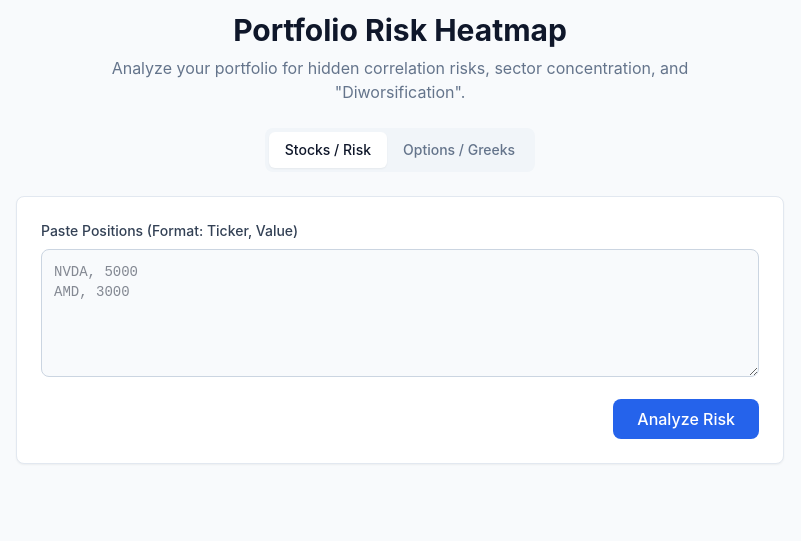
Test: PortfolioRisk Component › handles API error
Step 1. Type "NVDA, 10000" into the text box with placeholder "NVDA, 5000 AMD, 3000" → (400, 313), box [41,249,759,377]
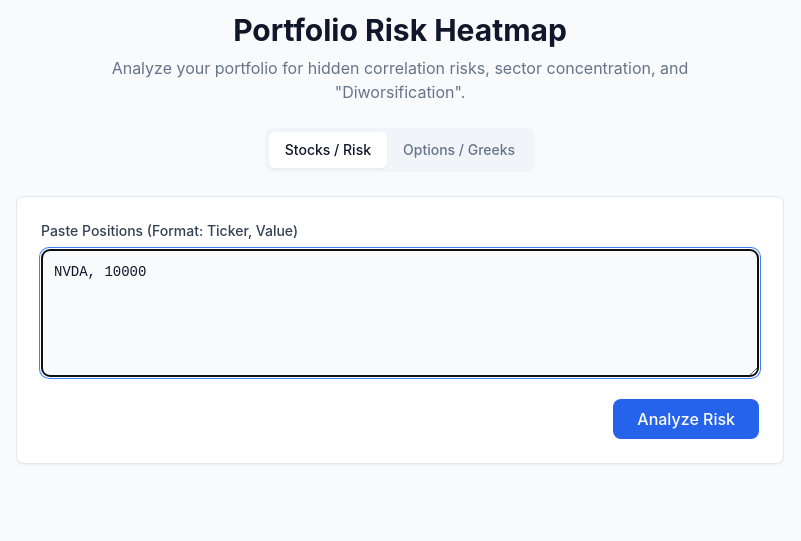
Step 2. Click the button "Analyze Risk" → (686, 419), box [613,399,759,439]
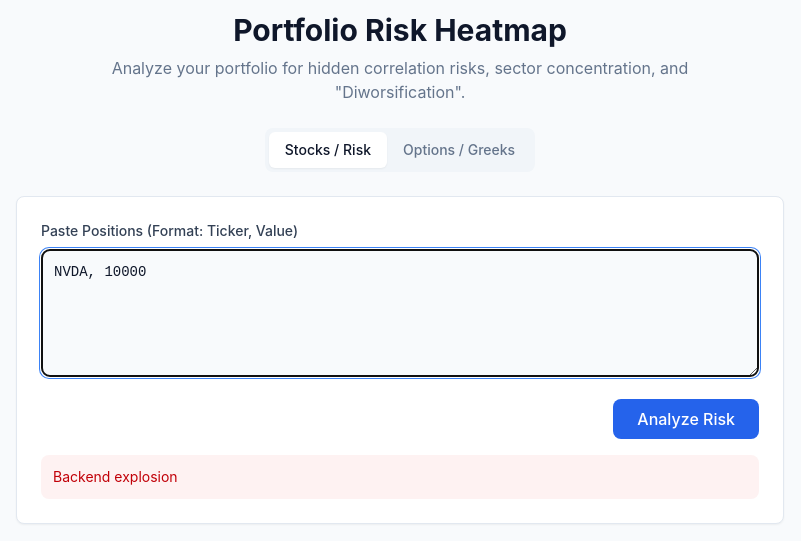
Expected: the text "Backend explosion" is shown, [41,455,759,499]
